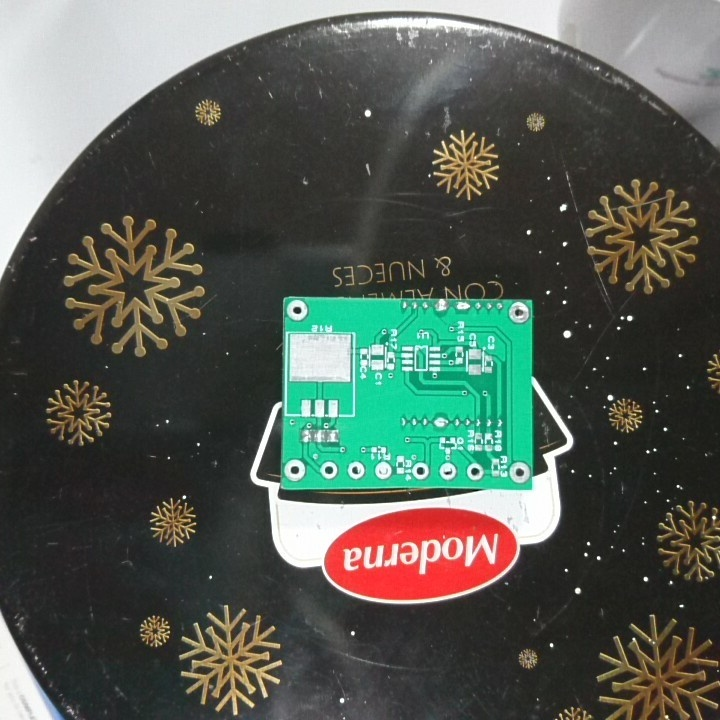F: (507, 300, 531, 326), (285, 298, 311, 322), (506, 459, 531, 483), (283, 458, 307, 483), (317, 459, 339, 483), (345, 460, 367, 482), (411, 460, 432, 482), (372, 460, 393, 482), (465, 462, 485, 482), (438, 462, 457, 482)
P: (431, 414, 450, 430), (433, 299, 452, 313), (454, 300, 471, 314)
